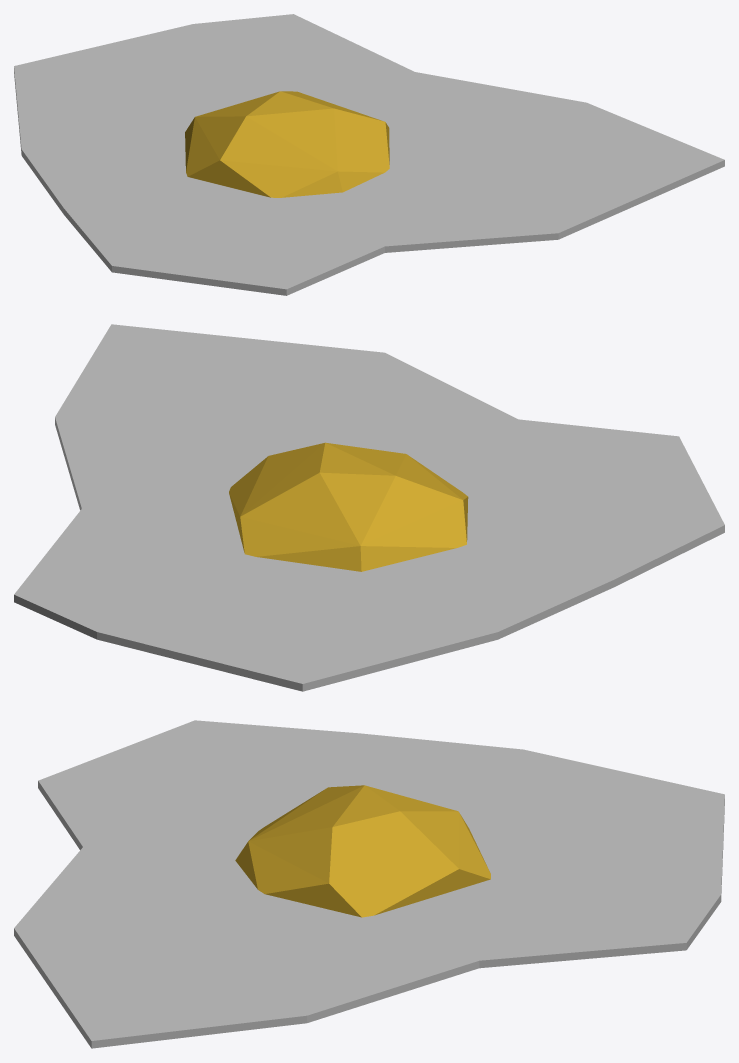
The model's file is Egg.fbx.
3 views of the same model, one above another, from view 1: azimuth 30°, elevation 25°; view 2: azimuth 150°, elevation 25°; view 3: azimuth 270°, elevation 25° (orthographic). The views are drawn at different scales.
Parts seen in each view (by area): view 1: Egg_Fried_Plane.003; view 2: Egg_Fried_Plane.003; view 3: Egg_Fried_Plane.003.
Part boxes in pixels (x1=…): Egg_Fried_Plane.003: x1=14, y1=14, x2=724, y2=295; Egg_Fried_Plane.003: x1=14, y1=324, x2=724, y2=691; Egg_Fried_Plane.003: x1=14, y1=720, x2=724, y2=1048.
Size of the model in its own units: 119 by 10.71 by 112.
